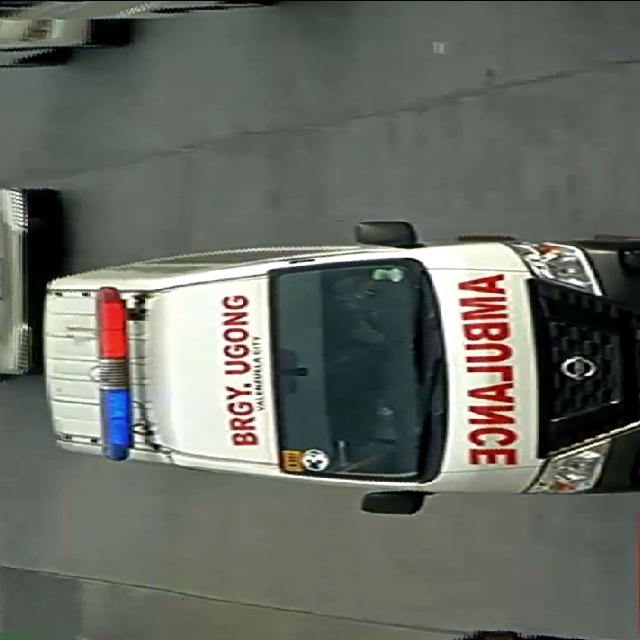emergency: (35, 212, 639, 520)
